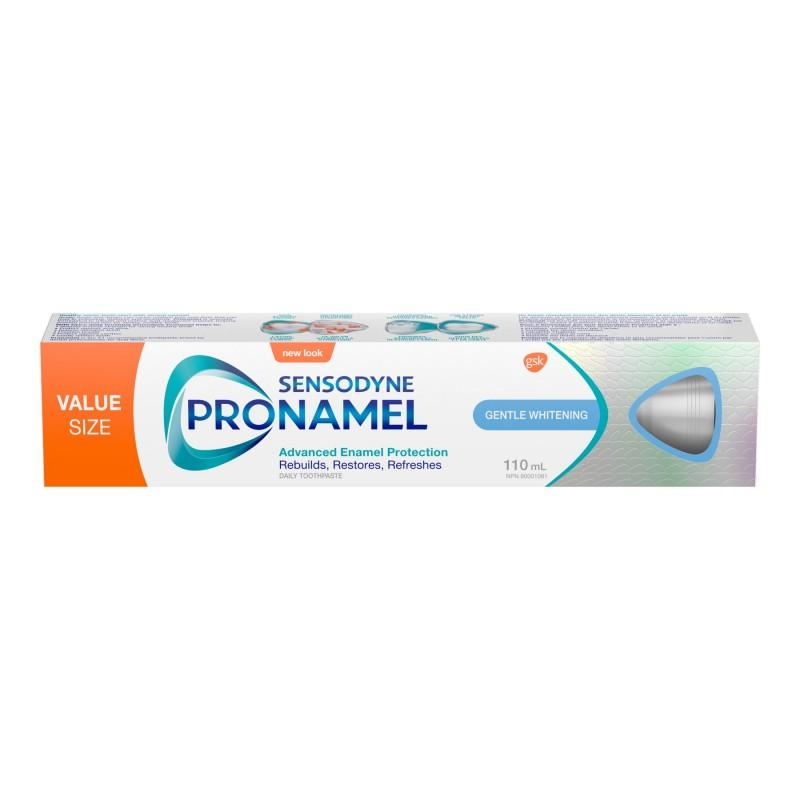toothpaste: (25, 300, 774, 511)
